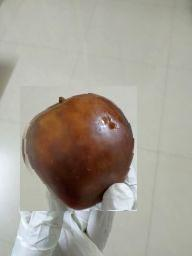Apple Rotten: (20, 86, 137, 211)
